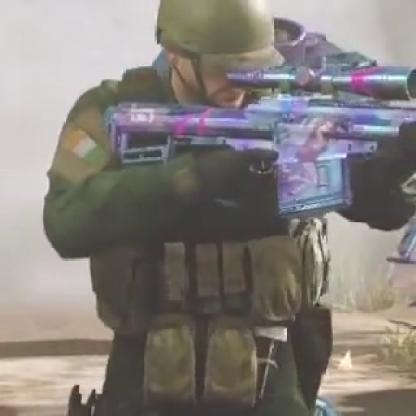enemy: (28, 0, 408, 413)
